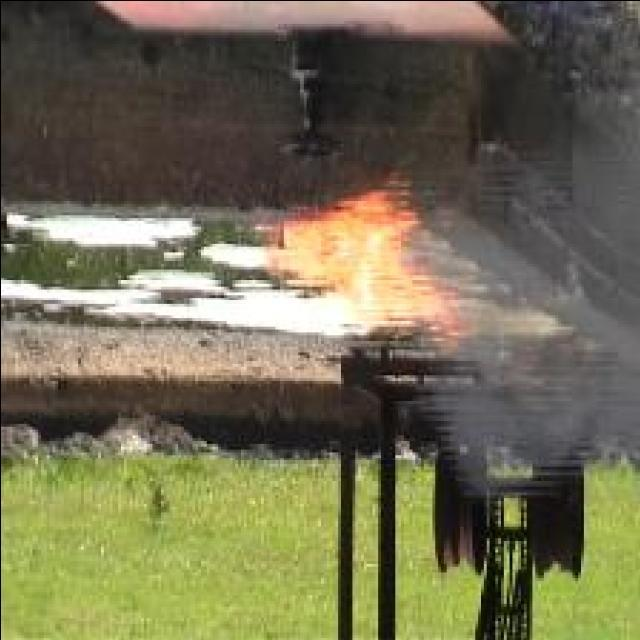Fire: (253, 187, 462, 353)
